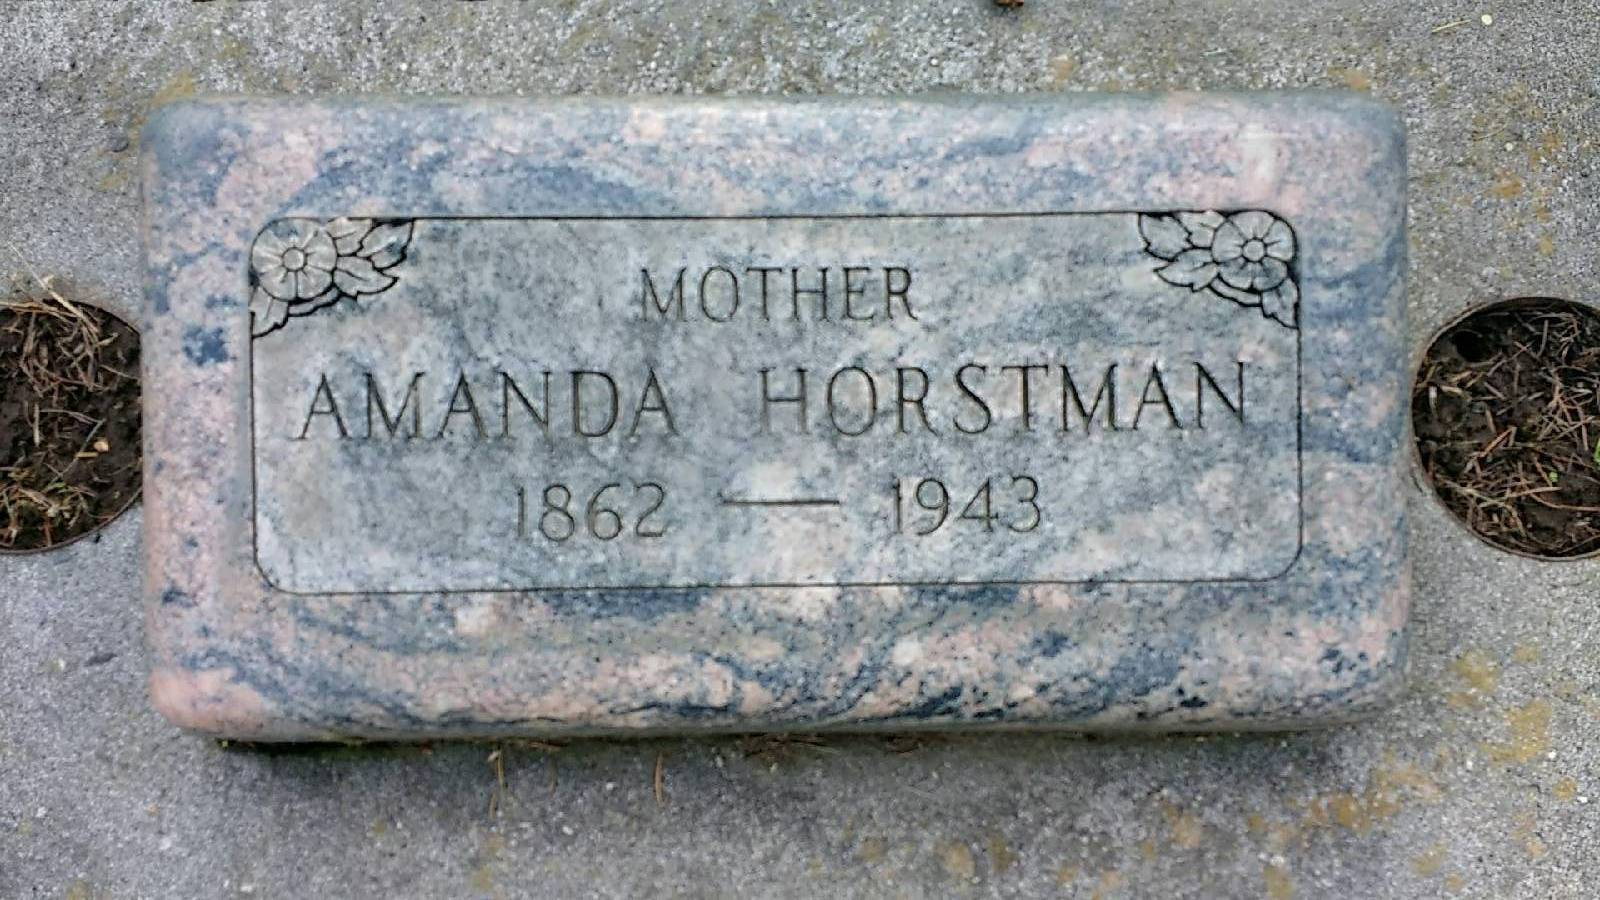flat: (127, 87, 1438, 747)
